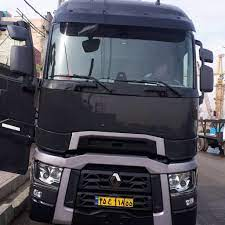car: (94, 195, 135, 207)
